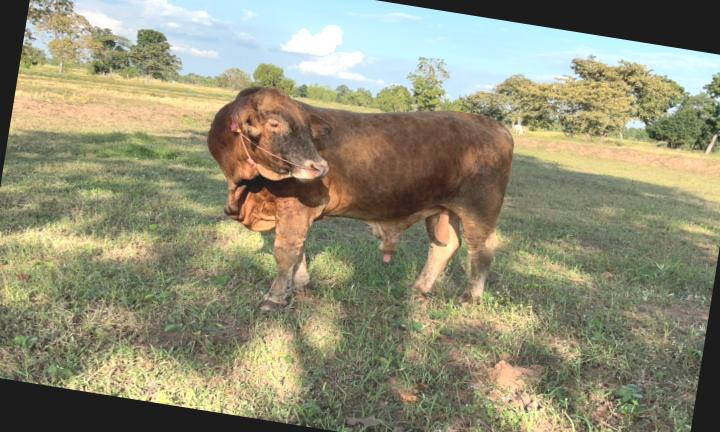Charolais: (208, 86, 513, 308)
